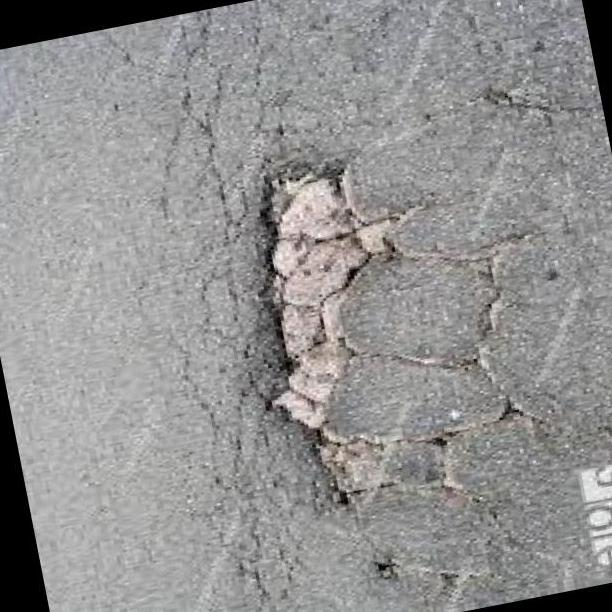pothole: (186, 132, 453, 464)
